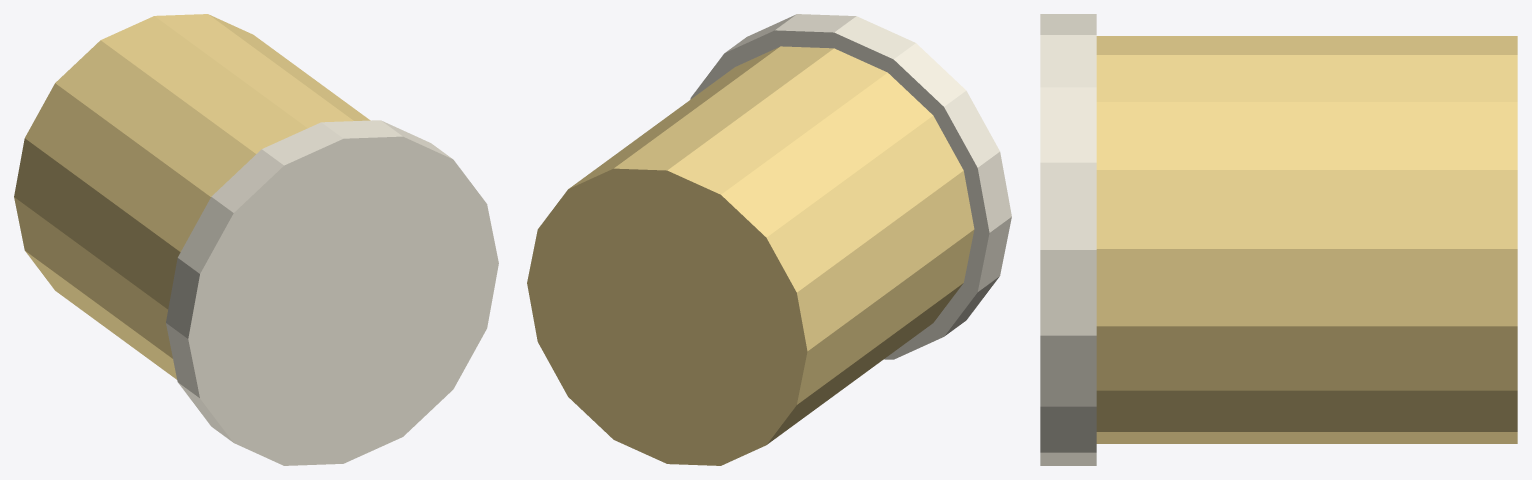
File: cheese_machine.glb
3 renders of one model, left to right at view 1: azimuth 30°, elevation 25°; view 2: azimuth 150°, elevation 25°; view 3: azimuth 270°, elevation 25°, orthographic. The views are drawn at different scales.
Visible parts, largest first — view 1: top, machine; view 2: machine, top; view 3: machine, top.
Boxes of the visible parts, x1=… form: top: x1=166, y1=120, x2=498, y2=465; machine: x1=14, y1=14, x2=370, y2=379; machine: x1=527, y1=46, x2=974, y2=465; top: x1=690, y1=14, x2=1011, y2=359; machine: x1=1096, y1=36, x2=1517, y2=443; top: x1=1040, y1=14, x2=1096, y2=465.
Size of the model in its own units: 1.44 by 1.44 by 1.52.
